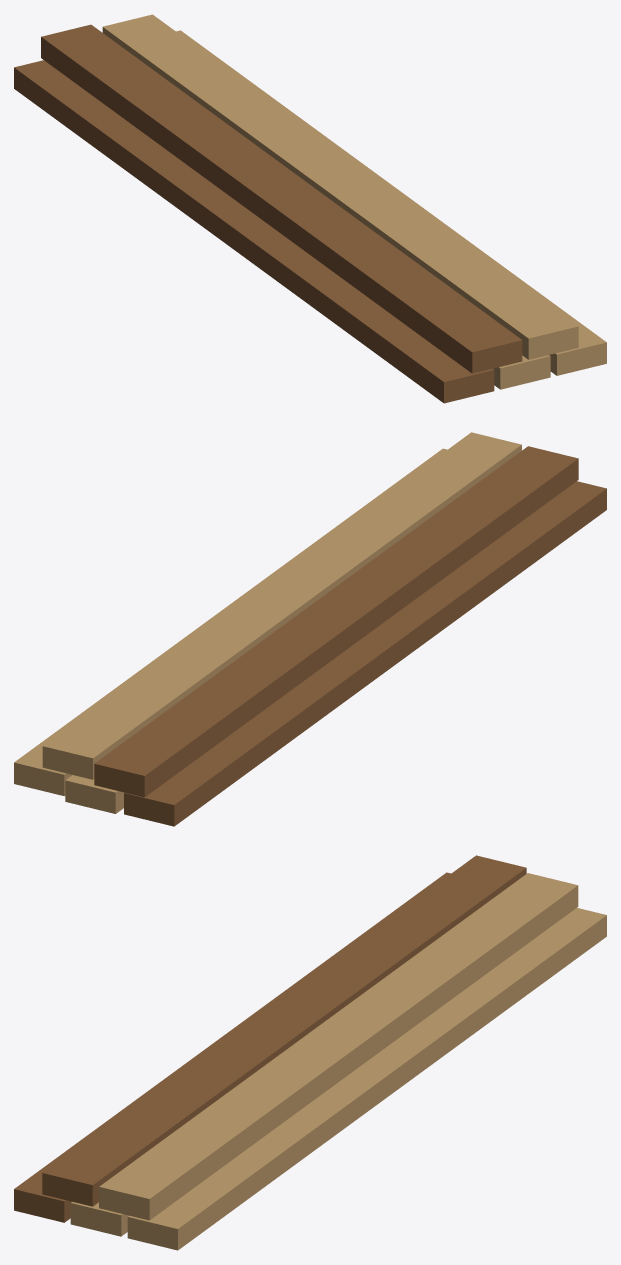
File: SM_Prop_Woodstack_01.glb
3 views of the same model, one above another, from view 1: azimuth 30°, elevation 25°; view 2: azimuth 150°, elevation 25°; view 3: azimuth 330°, elevation 25° (orthographic).
Parts seen in each view (by area): view 1: SM_Prop_Woodstack_01; view 2: SM_Prop_Woodstack_01; view 3: SM_Prop_Woodstack_01.
Part boxes in pixels (x1=…): SM_Prop_Woodstack_01: x1=14, y1=14, x2=606, y2=403; SM_Prop_Woodstack_01: x1=14, y1=432, x2=606, y2=826; SM_Prop_Woodstack_01: x1=14, y1=855, x2=606, y2=1250.
Size of the model in its own units: 1.04 by 0.27 by 4.77.
1 material, 1 textured.
